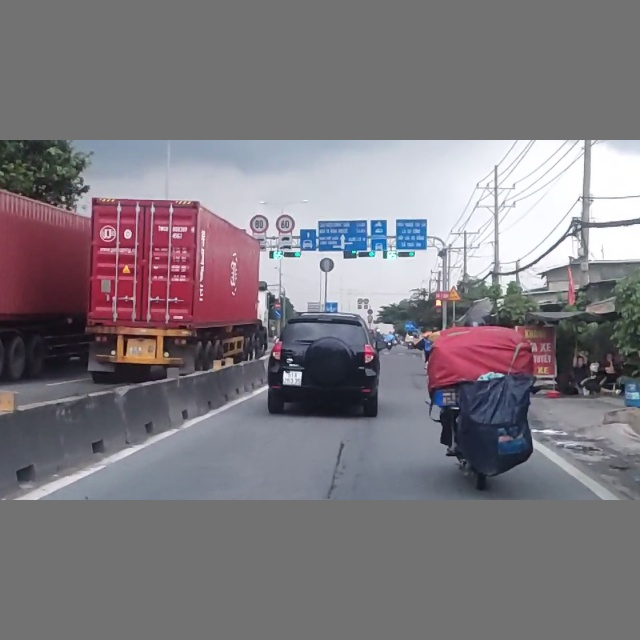P.102: (275, 302, 281, 309)
P.127*60: (275, 213, 295, 235)
P.127*80: (250, 213, 269, 234)
R.302a: (274, 309, 282, 317)
W.245a: (447, 285, 461, 301)
